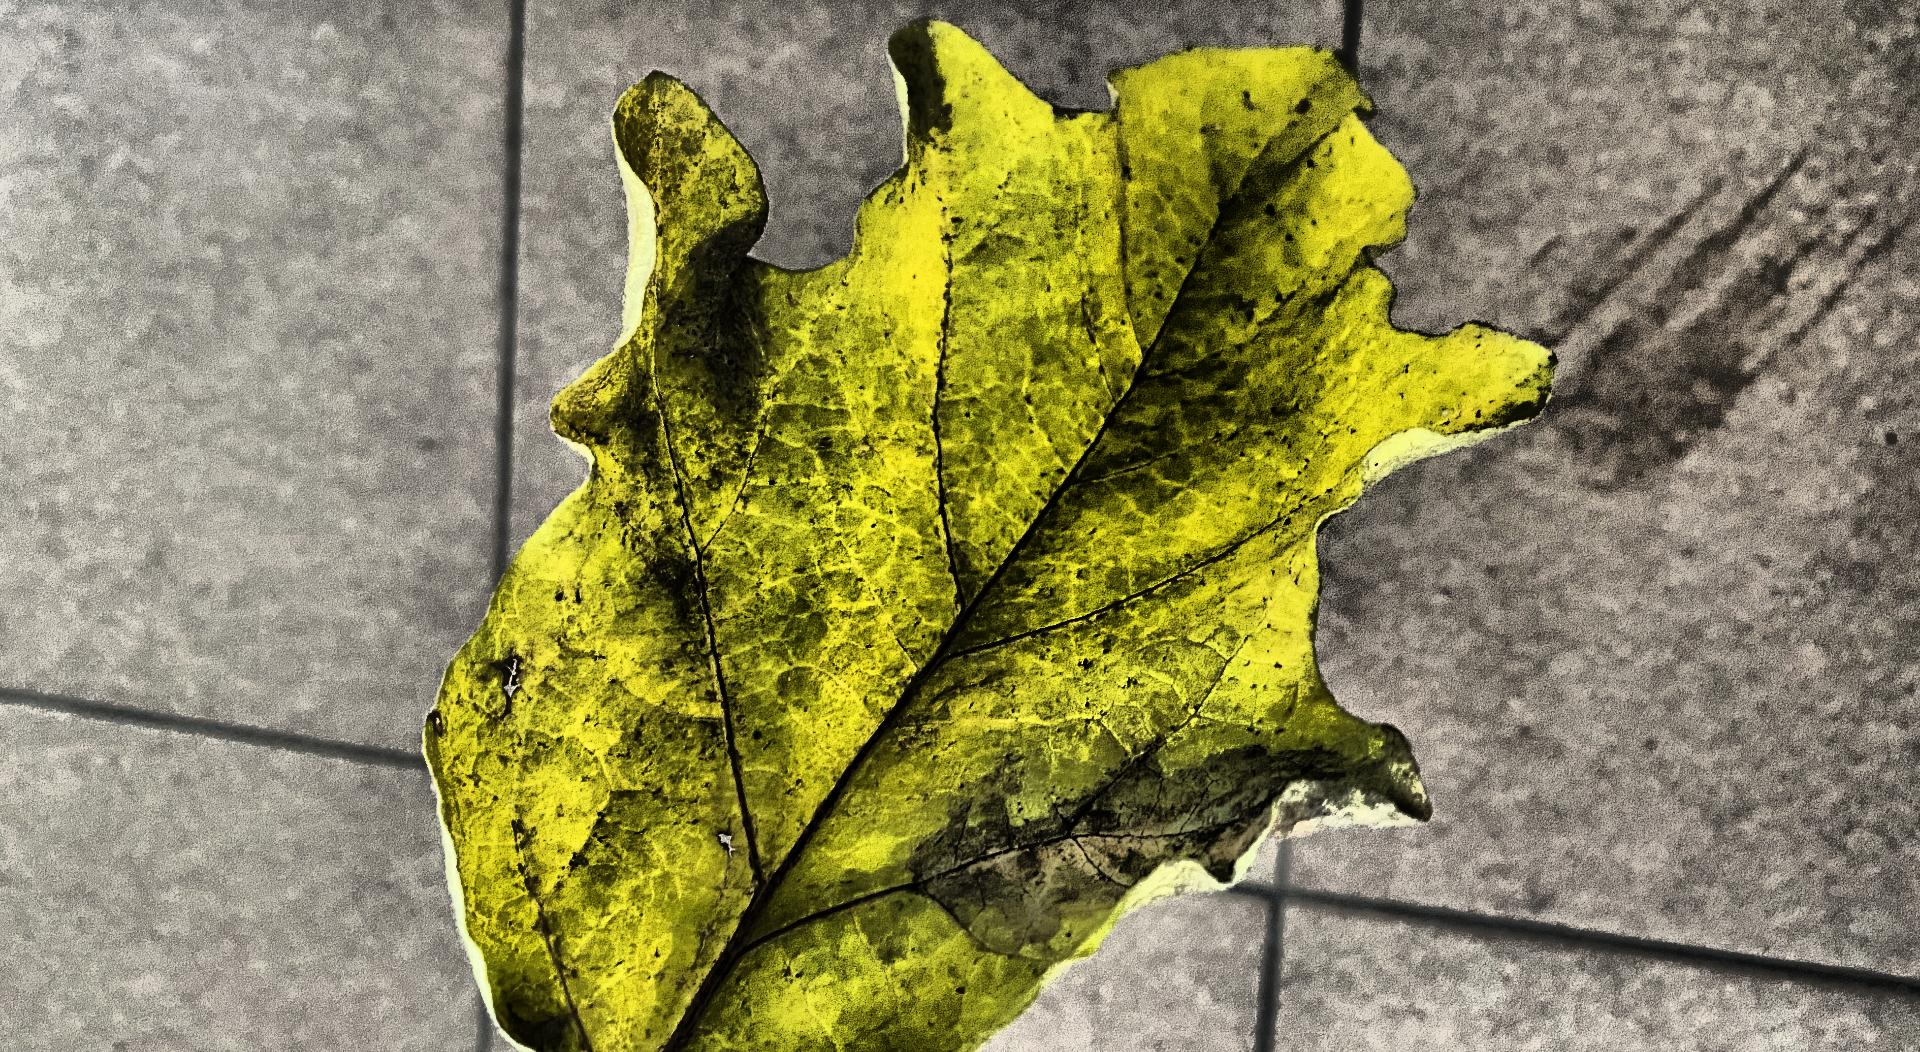Critical Stress: (0, 98, 1432, 1052)
